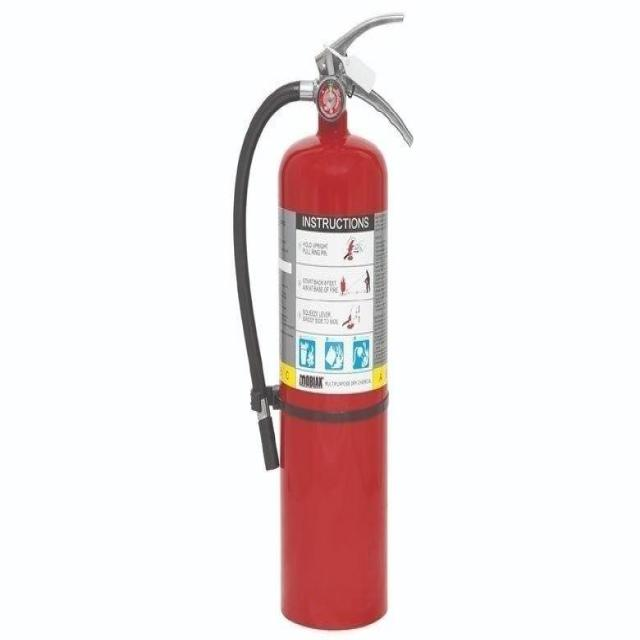fire_extinguisher: (229, 9, 415, 636)
